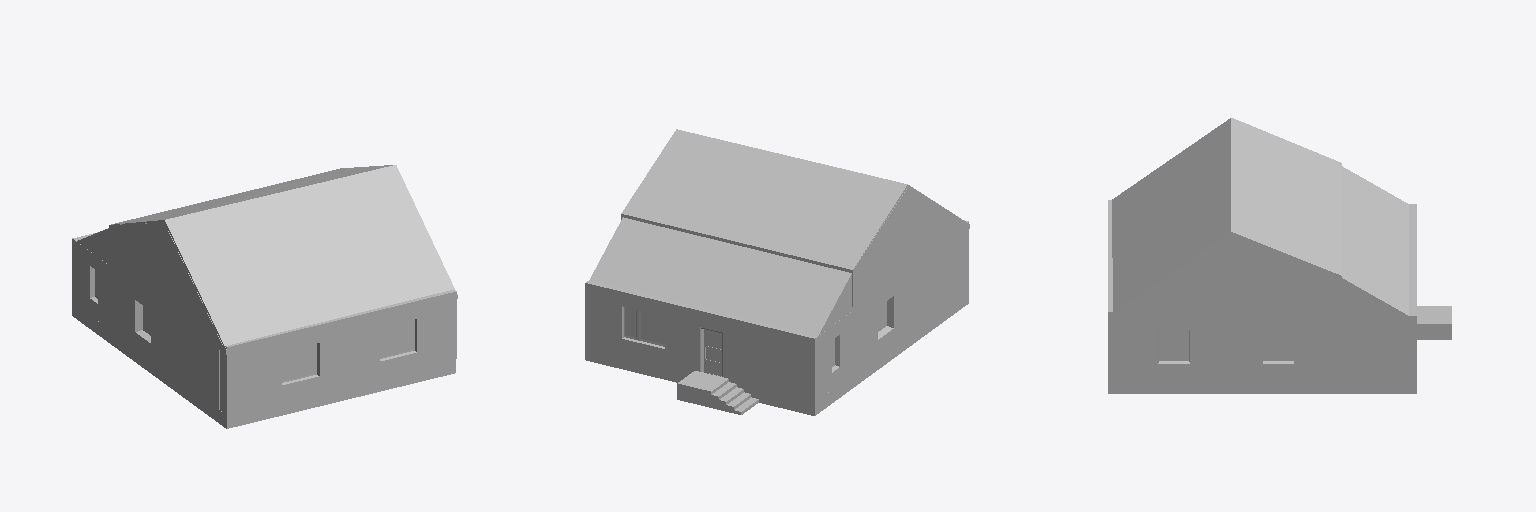
Rendered from Home OBJ.obj.
The picture shows the model from 3 angles: view 1: azimuth 30°, elevation 25°; view 2: azimuth 150°, elevation 25°; view 3: azimuth 270°, elevation 25°; orthographic projection.
Parts seen in each view (by area): view 1: RoofUpdate:pCube31, Home_OBJ:pasted__pPlane1polySurface37, RoofUpdate:pCube35, RoofUpdate:pCube26; view 2: Home_OBJ:pasted__pPlane1polySurface37, RoofUpdate:pCube31, RoofUpdate:pCube26, RoofUpdate:pCube35; view 3: RoofUpdate:pCube31, Home_OBJ:pasted__pPlane1polySurface37, RoofUpdate:pCube36, RoofUpdate:pCube26.
Boxes of the visible parts, x1,y1,x2,y2 form: RoofUpdate:pCube31: [109, 165, 457, 354]; Home_OBJ:pasted__pPlane1polySurface37: [72, 232, 456, 428]; RoofUpdate:pCube35: [109, 223, 225, 351]; RoofUpdate:pCube26: [77, 228, 108, 264]; Home_OBJ:pasted__pPlane1polySurface37: [585, 220, 968, 415]; RoofUpdate:pCube31: [621, 129, 969, 313]; RoofUpdate:pCube26: [590, 217, 851, 335]; RoofUpdate:pCube35: [850, 188, 968, 311]; RoofUpdate:pCube31: [1108, 118, 1341, 320]; Home_OBJ:pasted__pPlane1polySurface37: [1108, 200, 1451, 393]; RoofUpdate:pCube36: [1109, 233, 1338, 317]; RoofUpdate:pCube26: [1342, 166, 1408, 315].
Size of the model in its own units: 92.51 by 62.66 by 119.